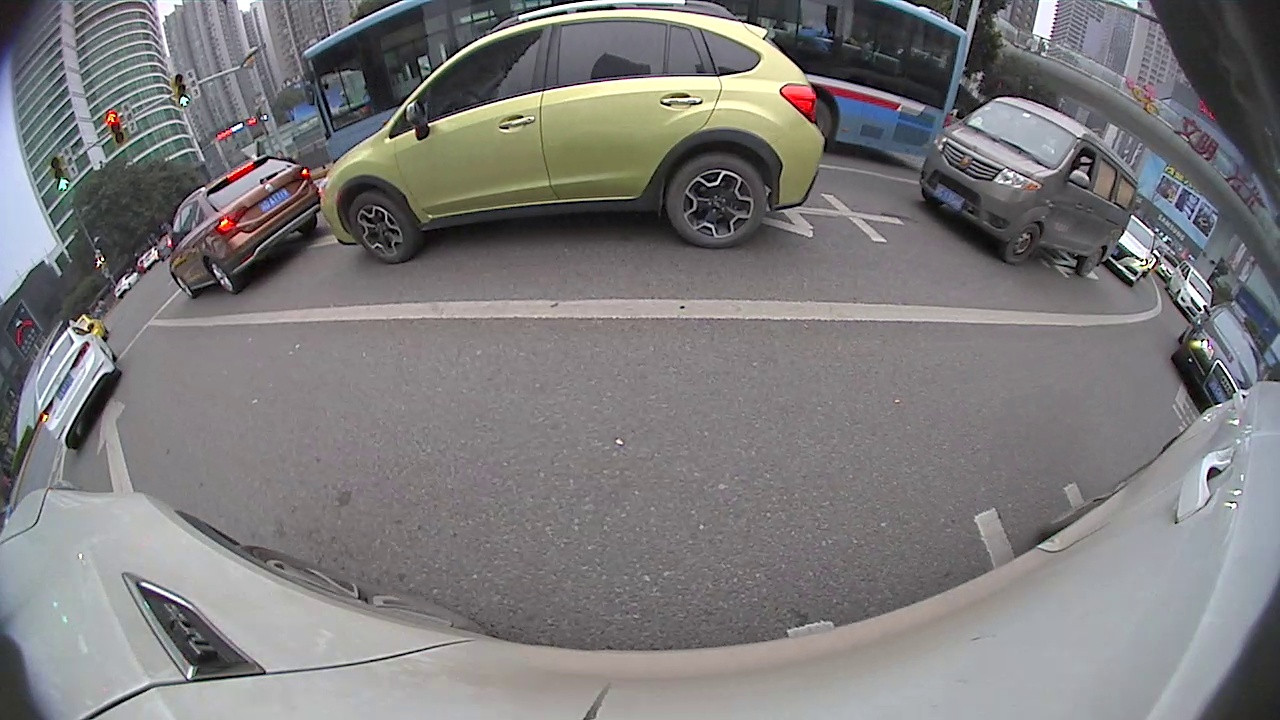bus: (295, 0, 971, 171)
car: (317, 1, 828, 267), (916, 92, 1140, 280), (166, 152, 324, 302), (30, 324, 124, 454), (1169, 299, 1262, 416), (1105, 208, 1160, 289), (1160, 257, 1214, 327)
front: (346, 189, 419, 267), (999, 217, 1043, 266)
rear: (664, 151, 768, 252), (800, 85, 835, 159), (203, 257, 241, 299), (202, 258, 240, 299), (1073, 241, 1103, 282)
